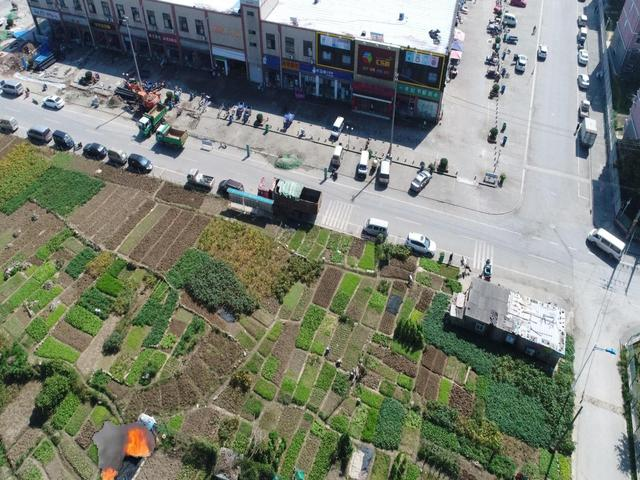fire: (92, 417, 155, 480)
